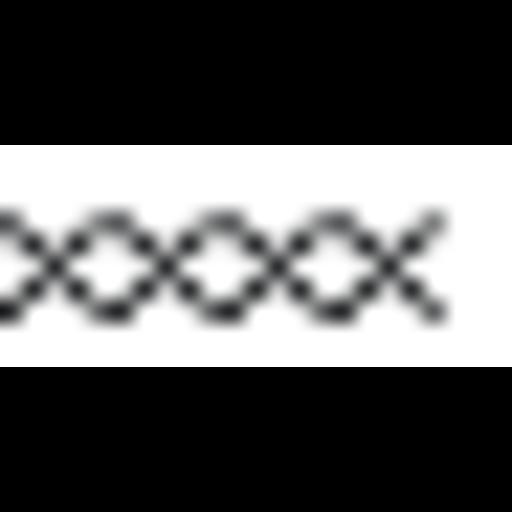PayPal: (0, 145, 512, 367)
